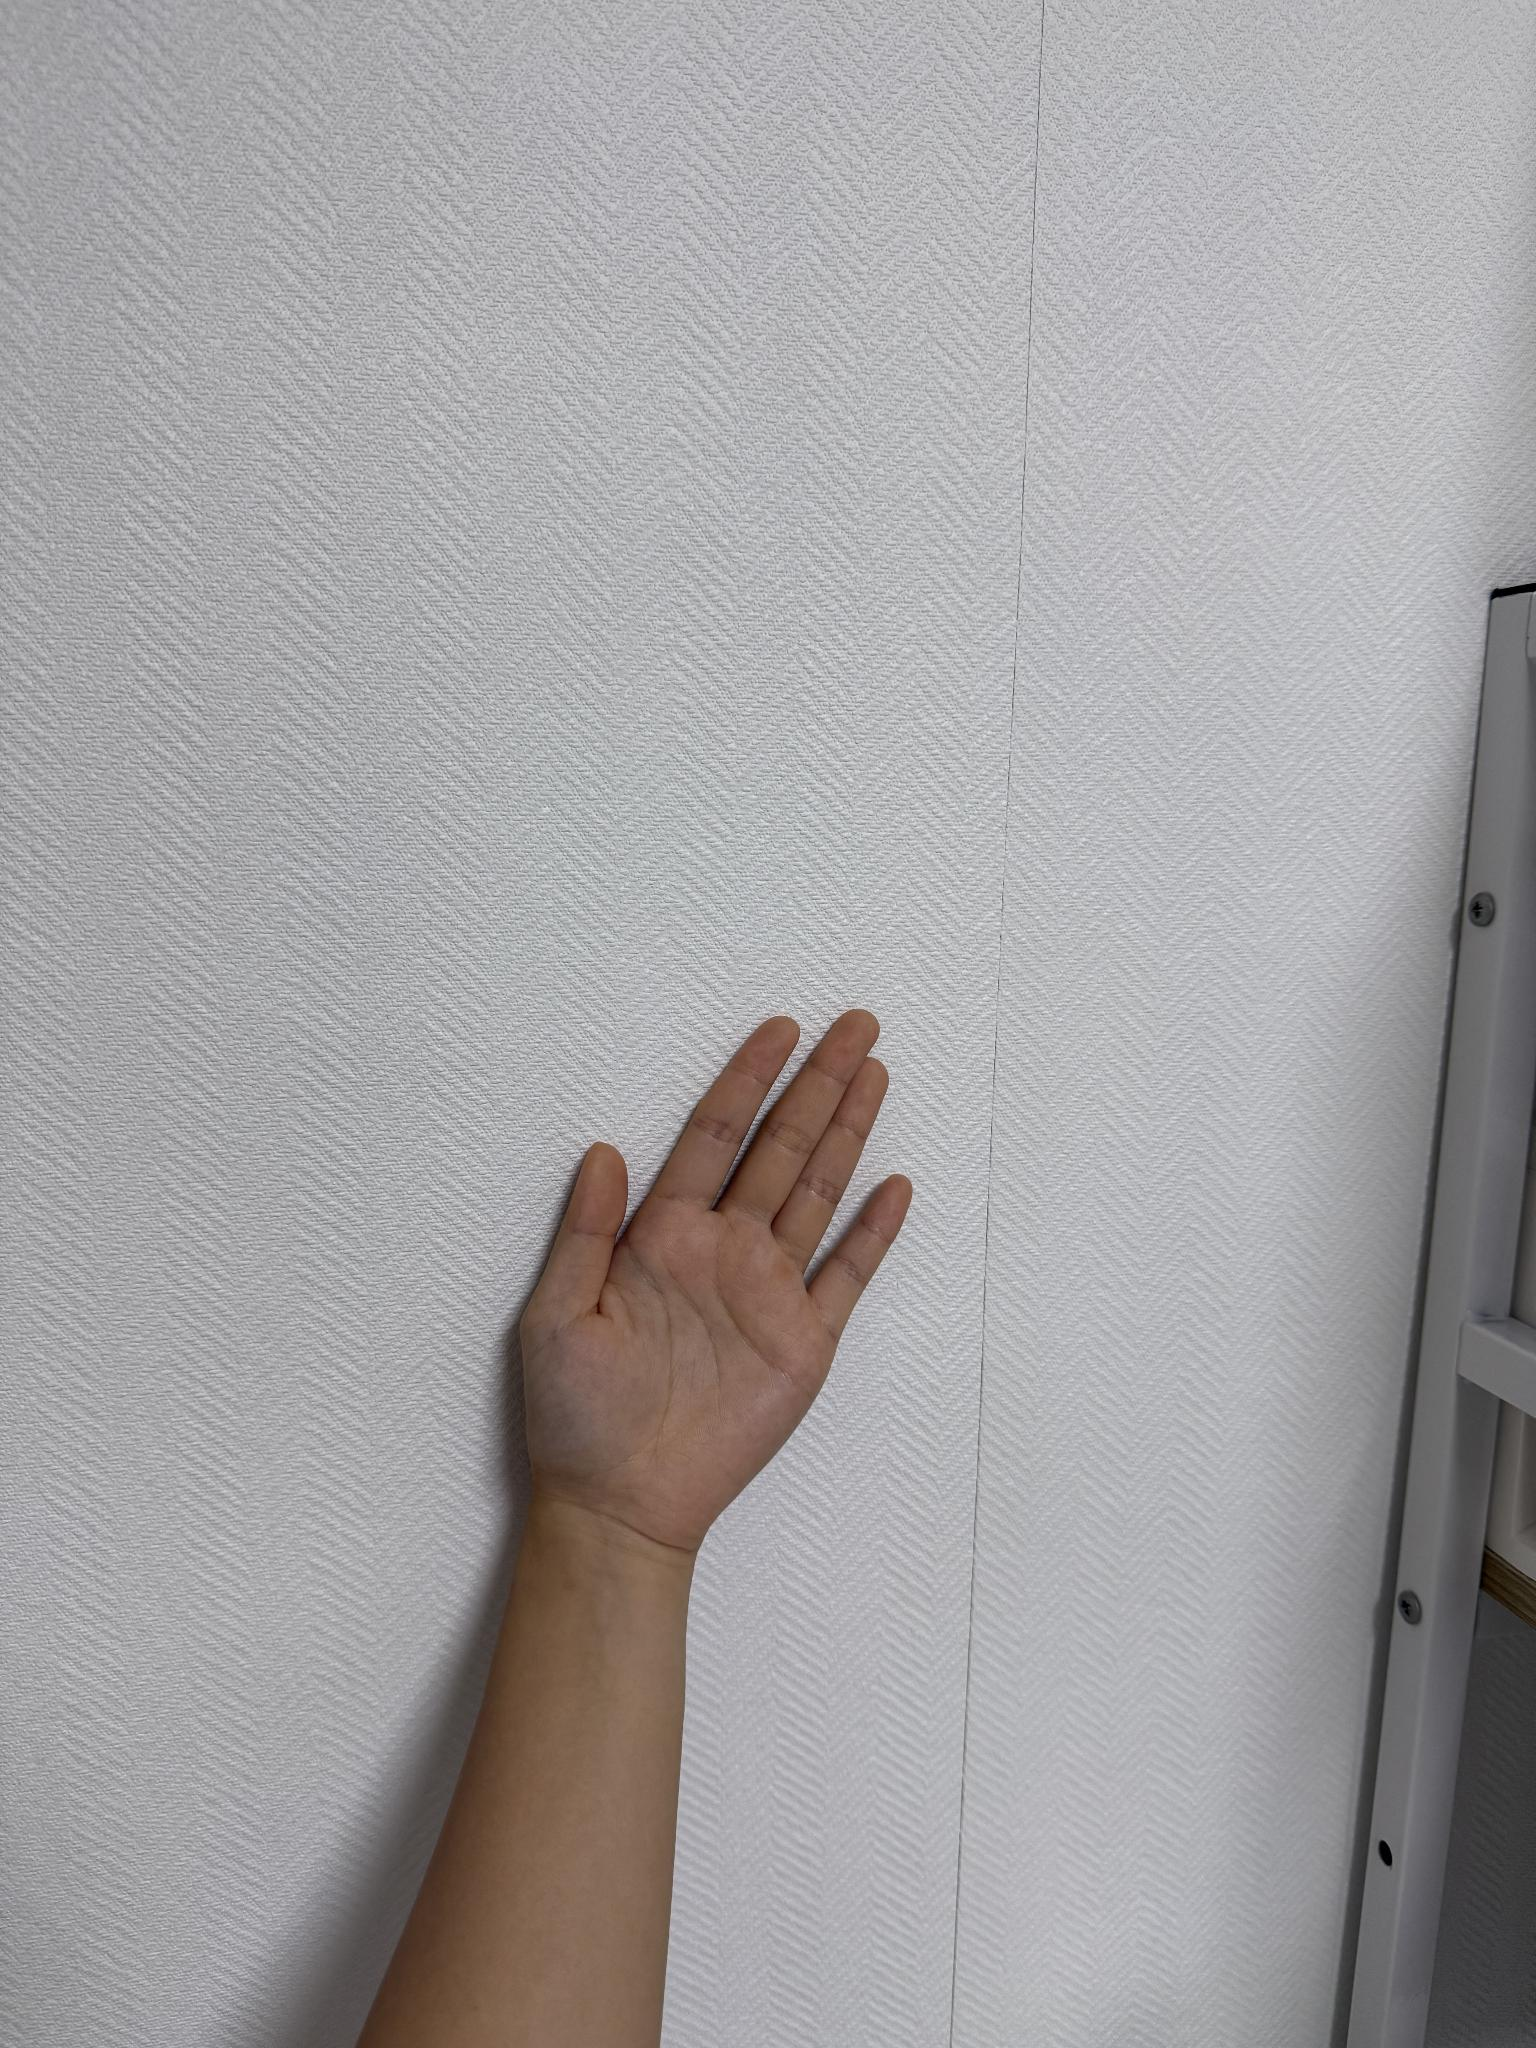open: (487, 998, 923, 1580)
